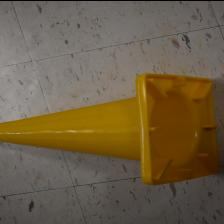cone: (0, 72, 219, 184)
